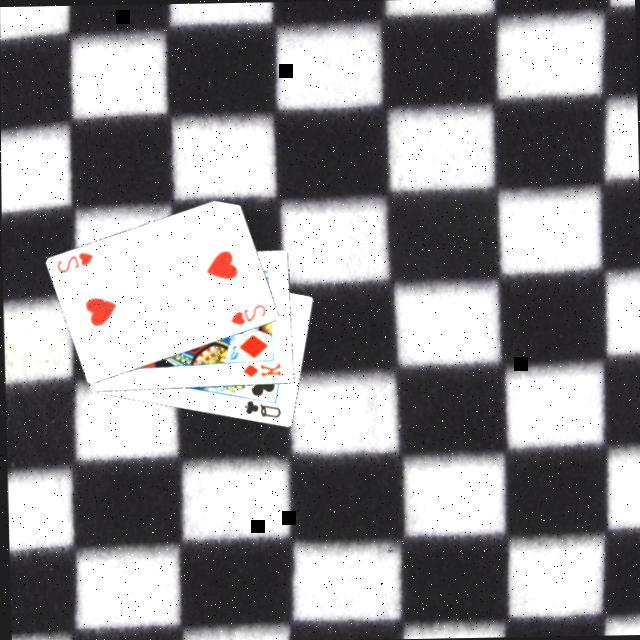2H: (225, 301, 267, 329), (51, 250, 94, 276)
KD: (237, 360, 280, 381)
QC: (238, 397, 280, 422)
